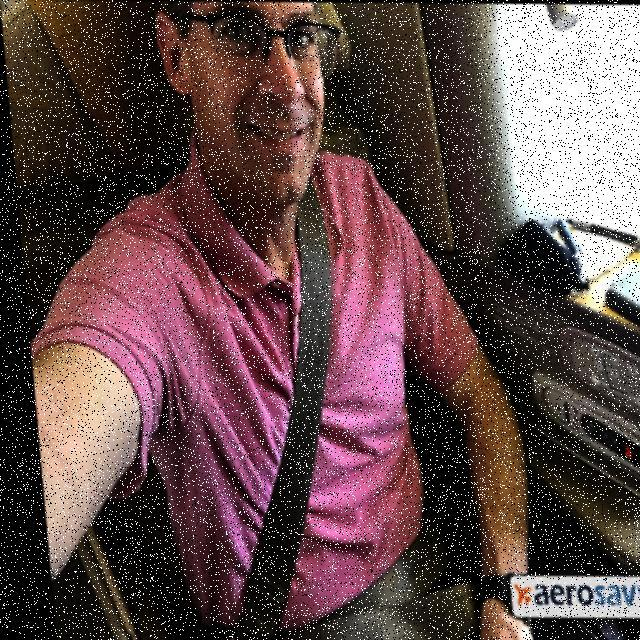seatbelt: (113, 178, 374, 640)
